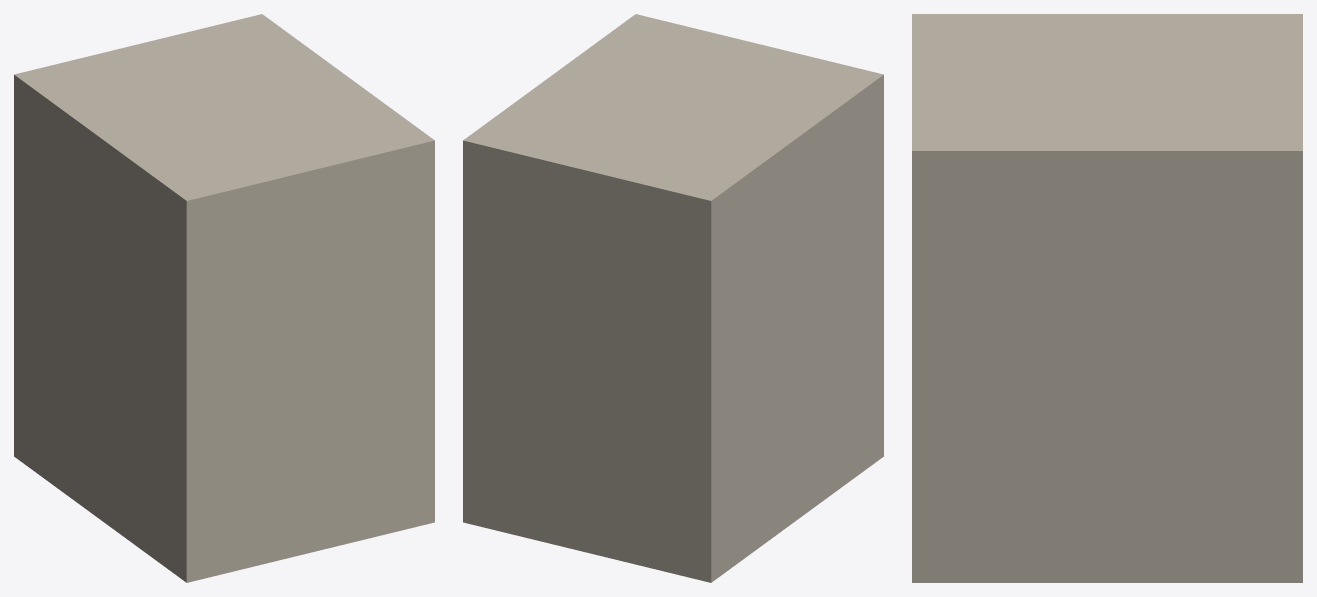
The model's file is ikea-poang-39240787-g2-proxy.glb.
The picture shows the model from 3 angles, left to right: view 1: azimuth 30°, elevation 25°; view 2: azimuth 150°, elevation 25°; view 3: azimuth 270°, elevation 25°; orthographic projection. The views are drawn at different scales.
Visible parts, largest first — view 1: proxy_body; view 2: proxy_body; view 3: proxy_body.
Boxes of the visible parts, <box> form: proxy_body: <box>14,14,434,582</box>; proxy_body: <box>463,14,883,582</box>; proxy_body: <box>912,14,1302,582</box>.
Bounding box in the file's own units: 0.68 × 1 × 0.82.
